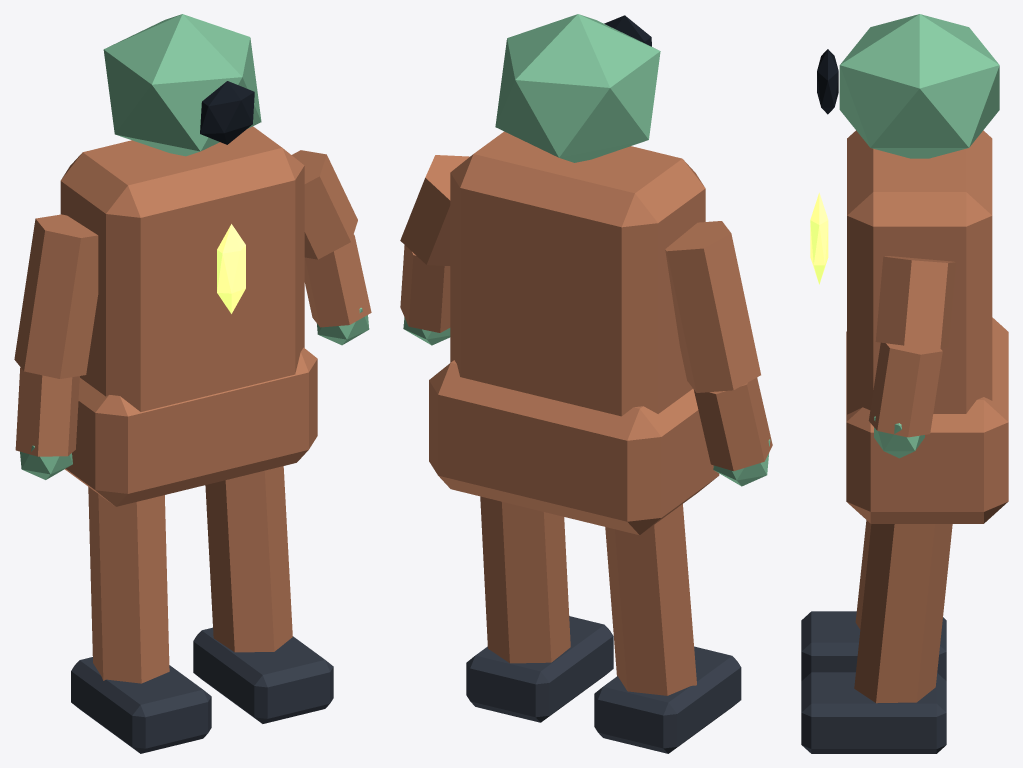
File: npcs_015_seed78877.glb
3 renders of one model, left to right at view 1: azimuth 30°, elevation 25°; view 2: azimuth 150°, elevation 25°; view 3: azimuth 270°, elevation 25°, orthographic. The views are drawn at different scales.
Visible parts, largest first — view 1: npcs_015_seed78877; view 2: npcs_015_seed78877; view 3: npcs_015_seed78877.
Boxes of the visible parts, x1,y1,x2,y2 form: npcs_015_seed78877: (14, 14, 371, 753); npcs_015_seed78877: (400, 14, 772, 753); npcs_015_seed78877: (801, 14, 1008, 753).
Size of the model in its own units: 0.8121 by 1.51 by 0.4081.
